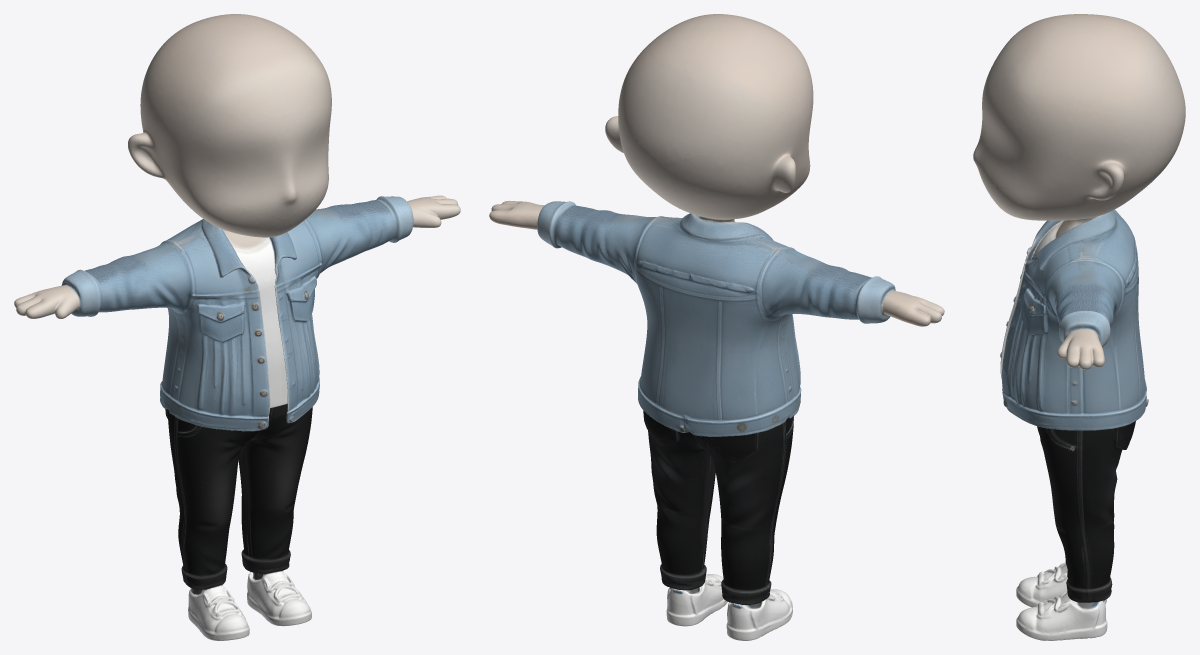
The model's file is baked_noutfit_denim.glb.
3 renders of one model, left to right at view 1: azimuth 30°, elevation 25°; view 2: azimuth 150°, elevation 25°; view 3: azimuth 270°, elevation 25°, orthographic.
Size of the model in its own units: 1.49 by 1.9 by 0.6176.
1 material, 1 textured.
